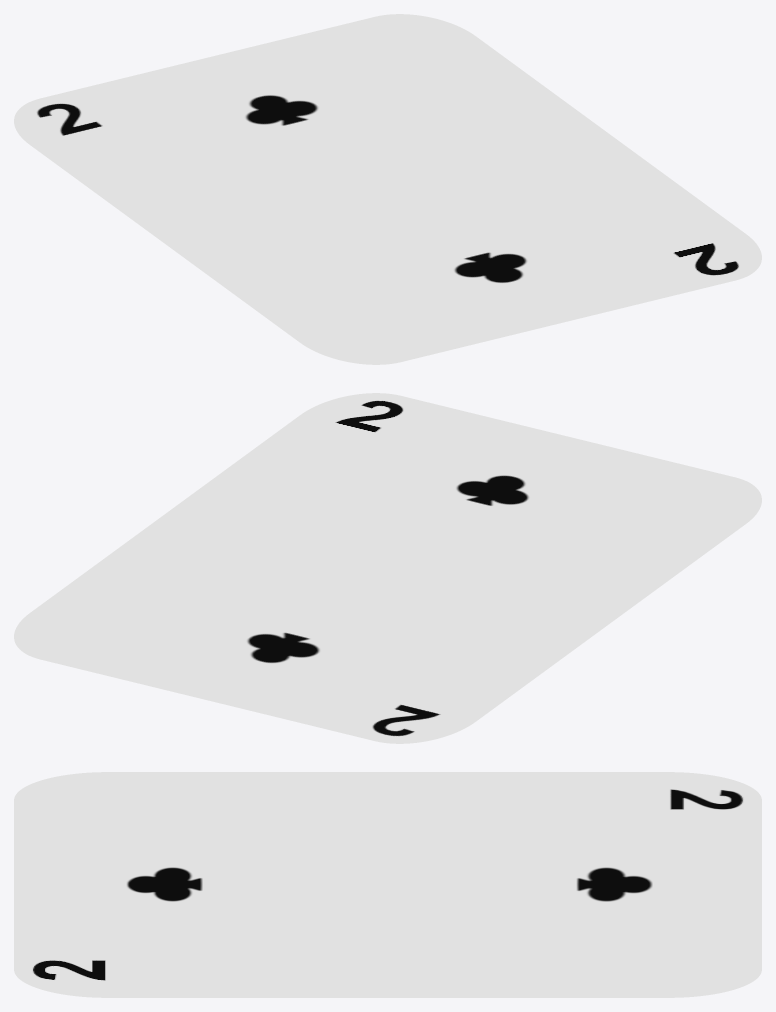
File: Clubs2.fbx
The picture shows the model from 3 angles, top to bottom: view 1: azimuth 30°, elevation 25°; view 2: azimuth 150°, elevation 25°; view 3: azimuth 270°, elevation 25°; orthographic projection. The views are drawn at different scales.
Visible parts, largest first — view 1: Plane.009; view 2: Plane.009; view 3: Plane.009.
Part boxes in pixels (bbox=[...]): Plane.009: bbox=[14, 14, 761, 364]; Plane.009: bbox=[14, 393, 761, 743]; Plane.009: bbox=[14, 772, 761, 997].
Size of the model in its own units: 500 by 0 by 700.
Materials: 1 (1 with a texture image).
